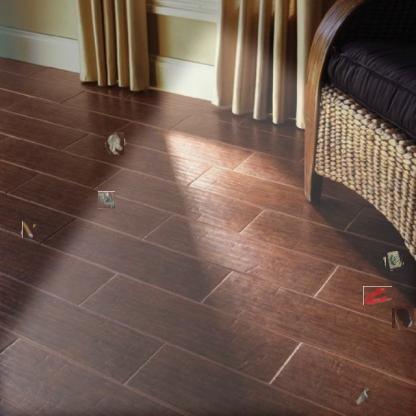dirty: (105, 132, 126, 154), (384, 252, 402, 270), (98, 191, 115, 209), (21, 222, 35, 237), (356, 388, 368, 404)
liquid: (363, 286, 392, 305), (393, 307, 415, 329)
